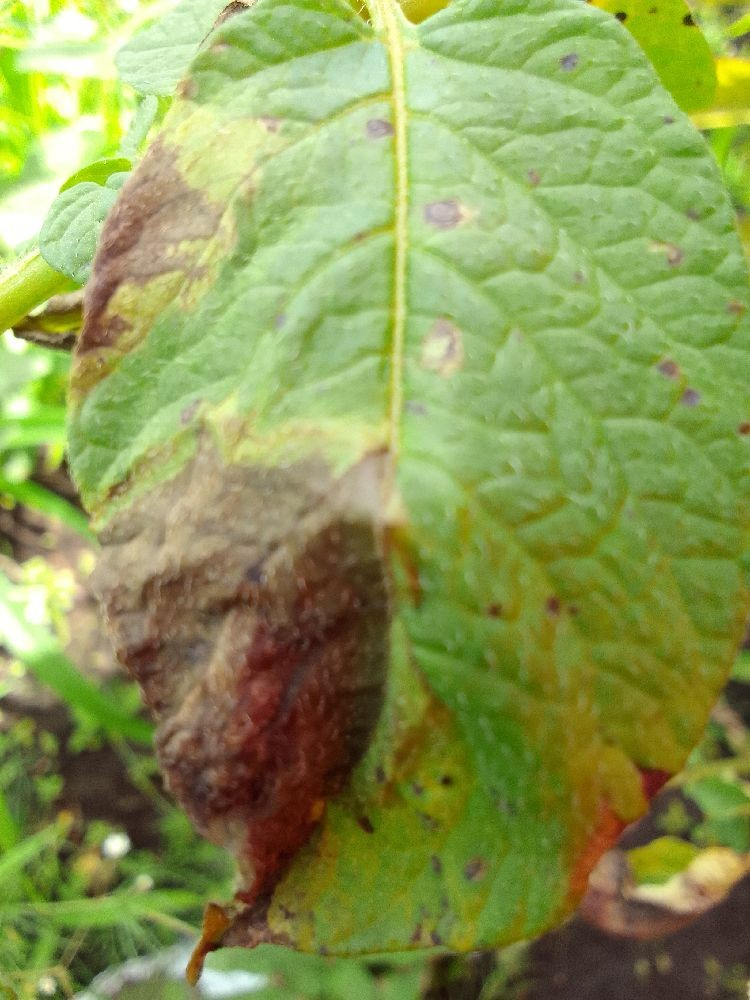late_blight: (0, 400, 469, 999), (0, 103, 266, 428)
